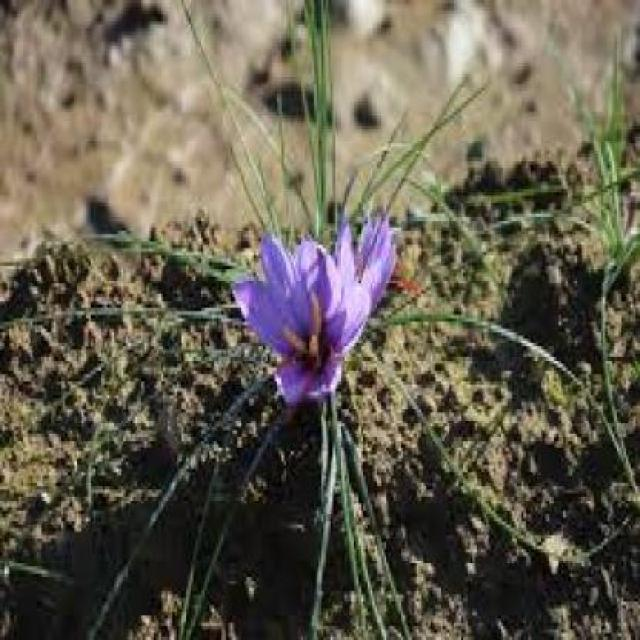saffron open: (234, 222, 373, 406)
